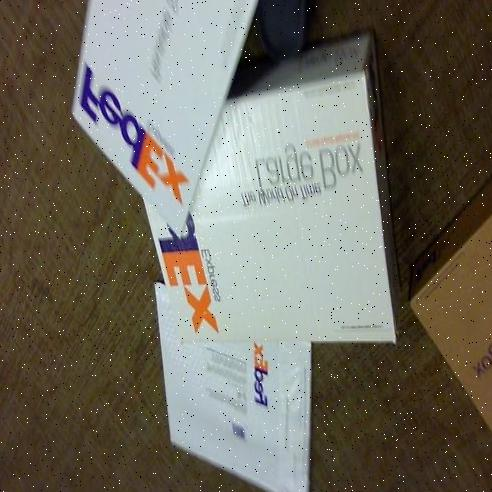Amazon: (161, 47, 384, 349), (72, 0, 252, 212), (165, 289, 308, 492), (405, 198, 492, 430)
